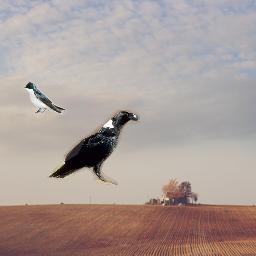Crow: (47, 110, 140, 185)
Swallow: (23, 81, 67, 115)
